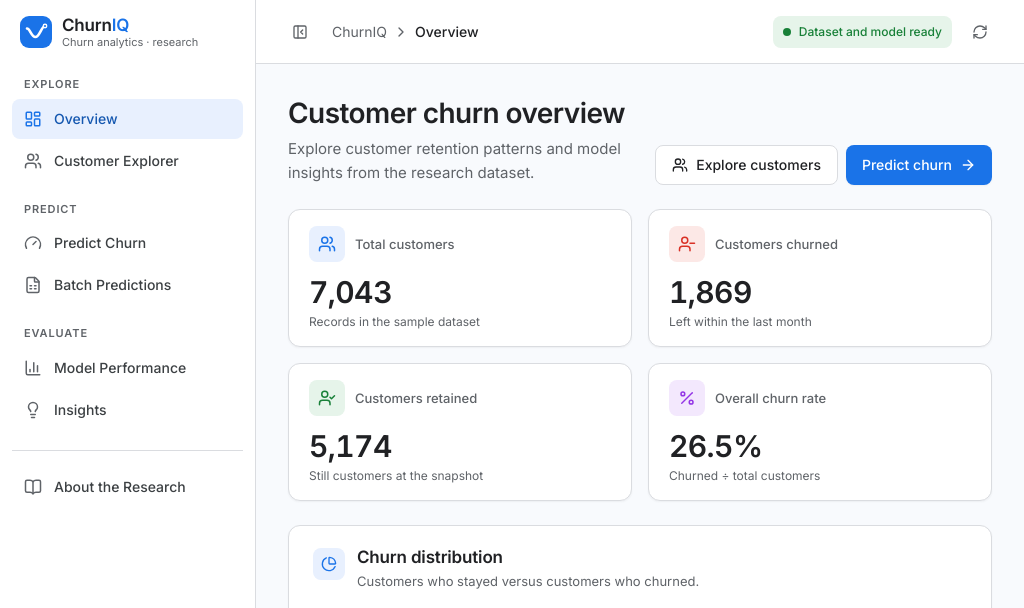
Test case: App shell and navigation › navigates between pages from the sidebar
The width and height of the screenshot is (1024, 608).
Expected: the element named "Key figures" is shown, 288,209 -> 992,501
Step 1. Click the link "About the Research" → {"x": 105, "y": 486}, box 24,478 -> 186,496
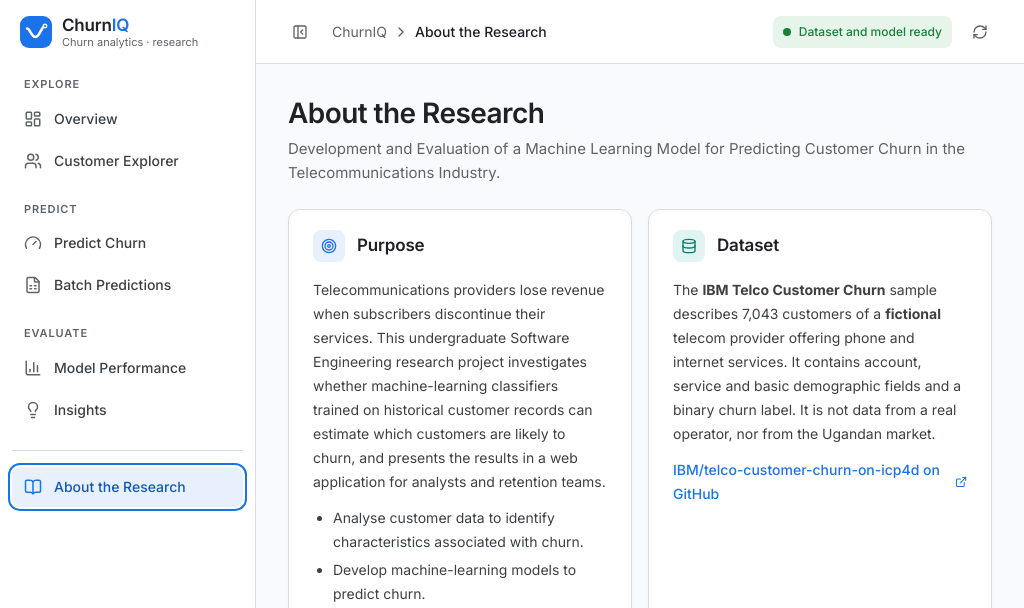
Expected: the heading "About the Research" is shown, 288,96 -> 544,130
